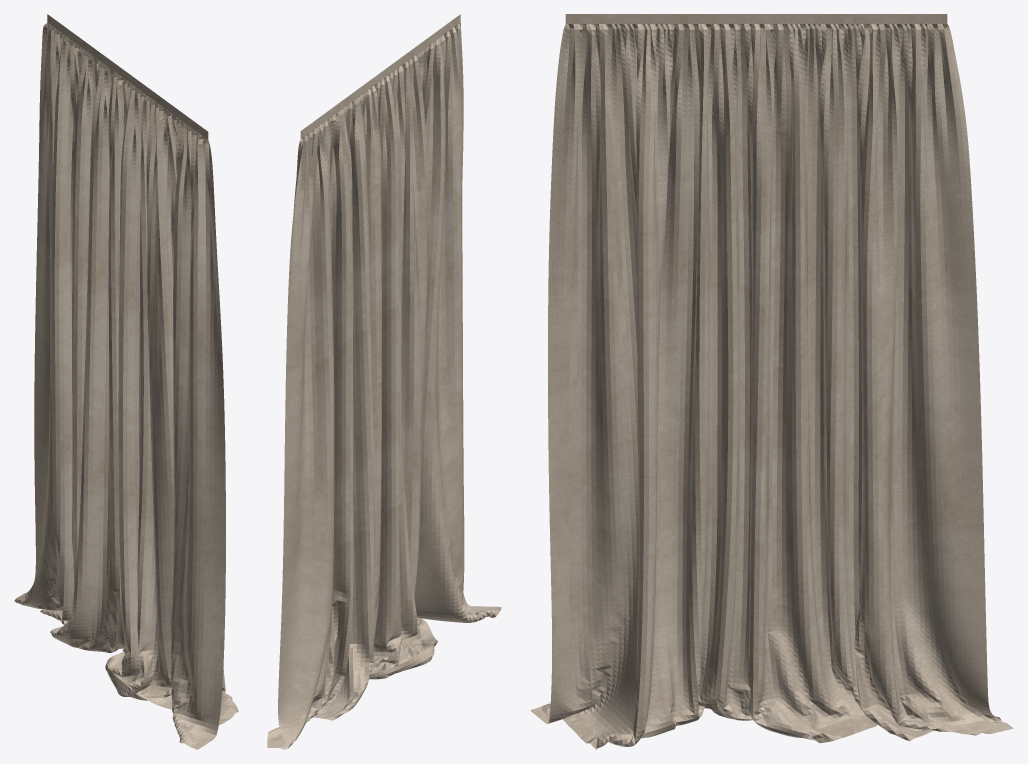
File: curt.obj
The picture shows the model from 3 angles, left to right: view 1: azimuth 30°, elevation 25°; view 2: azimuth 150°, elevation 25°; view 3: azimuth 270°, elevation 25°; orthographic projection. The views are drawn at different scales.
Visible parts, largest first — view 1: curtein_1; view 2: curtein_1; view 3: curtein_1.
Boxes of the visible parts, <box> form: curtein_1: <box>14,14,238,749</box>; curtein_1: <box>267,14,501,749</box>; curtein_1: <box>530,14,1013,749</box>.
Size of the model in its own units: 4174 by 30196 by 18515.
